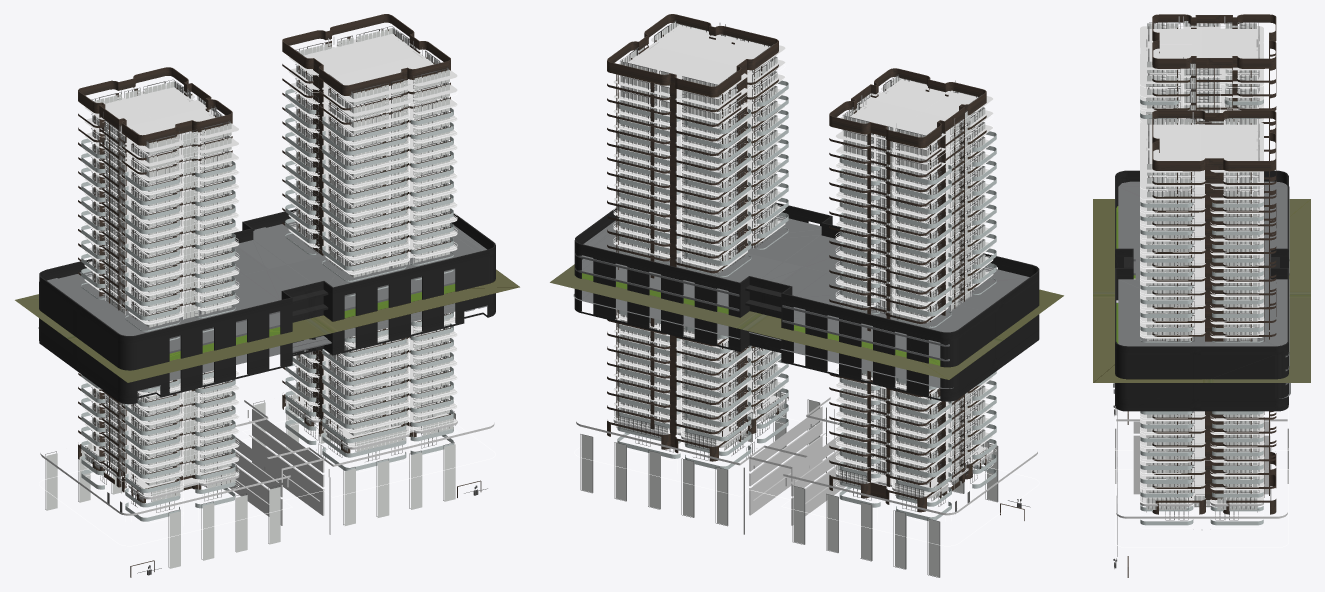
File: MDL_OverviewOptimized-compressed (1)_compressed (1).glb
3 renders of one model, left to right at view 1: azimuth 30°, elevation 25°; view 2: azimuth 150°, elevation 25°; view 3: azimuth 270°, elevation 25°, orthographic. The views are drawn at different scales.
Parts seen in each view (by area): view 1: Stucco - White Rough, Glass - Clear Fast, Glass - Satin, Wood - MDF Black, Wood - Walnut Horizontal, Plastic - Black, Pavement - Asphalt Light, Glass - Lamp, Grass - Brown, Paint - Anthracite, Paint - Light Gray, Grass - Green; view 2: Stucco - White Rough, Glass - Clear Fast, Wood - Walnut Horizontal, Glass - Satin, Wood - MDF Black, Pavement - Asphalt Light, Plastic - Black, Glass - Lamp, Grass - Brown, Paint - Anthracite, Paint - Light Gray, Grass - Green; view 3: Stucco - White Rough, Wood - Walnut Horizontal, Glass - Clear Fast, Wood - MDF Black, Glass - Satin, Grass - Brown, Pavement - Asphalt Light, Plastic - Black, Glass - Lamp, Paint - Anthracite, Paint - Light Gray.
Boxes of the visible parts, box(x1,y1,x2,y2) form: Stucco - White Rough: box(40, 31, 494, 525); Glass - Clear Fast: box(46, 28, 455, 568); Glass - Satin: box(81, 89, 453, 521); Wood - MDF Black: box(39, 208, 495, 404); Wood - Walnut Horizontal: box(78, 14, 481, 577); Plastic - Black: box(45, 26, 487, 575); Pavement - Asphalt Light: box(38, 221, 487, 391); Glass - Lamp: box(39, 73, 495, 546); Grass - Brown: box(15, 269, 519, 382); Paint - Anthracite: box(98, 87, 436, 512); Paint - Light Gray: box(81, 37, 453, 534); Grass - Green: box(169, 284, 455, 360); Stucco - White Rough: box(576, 23, 1037, 525); Glass - Clear Fast: box(581, 21, 998, 577); Wood - Walnut Horizontal: box(607, 14, 1024, 520); Glass - Satin: box(617, 80, 996, 520); Wood - MDF Black: box(574, 202, 1039, 401); Pavement - Asphalt Light: box(573, 215, 1029, 388); Plastic - Black: box(580, 20, 1030, 577); Glass - Lamp: box(574, 64, 1039, 546); Grass - Brown: box(550, 264, 1063, 379); Paint - Anthracite: box(635, 79, 978, 512); Paint - Light Gray: box(617, 23, 996, 534); Grass - Green: box(582, 273, 940, 365); Stucco - White Rough: box(1116, 26, 1287, 518); Wood - Walnut Horizontal: box(1127, 14, 1276, 577); Glass - Clear Fast: box(1146, 21, 1257, 509); Wood - MDF Black: box(1115, 170, 1288, 411); Glass - Satin: box(1140, 96, 1263, 525); Grass - Brown: box(1093, 199, 1310, 382); Pavement - Asphalt Light: box(1113, 181, 1290, 398); Plastic - Black: box(1113, 20, 1259, 568); Glass - Lamp: box(1115, 84, 1288, 547); Paint - Anthracite: box(1146, 84, 1257, 520); Paint - Light Gray: box(1115, 16, 1288, 501).
Size of the model in its own units: 3276700 by 3401215 by 1639200.
21 materials, 13 textured.
